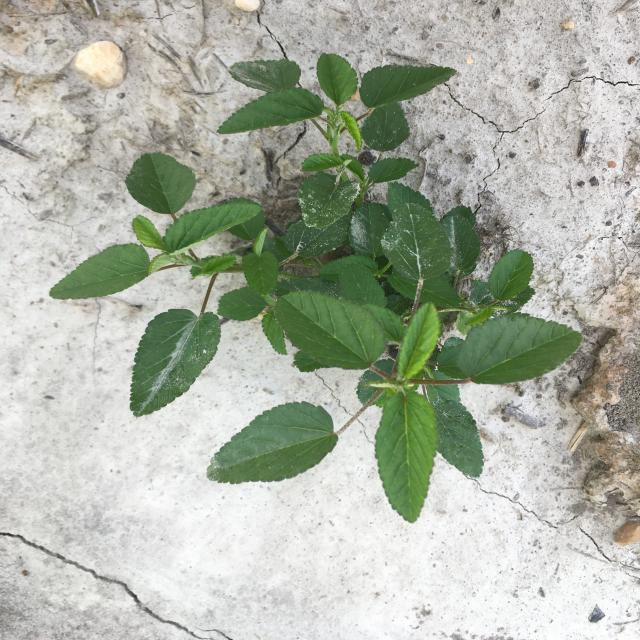PricklySida: (49, 53, 583, 524)
